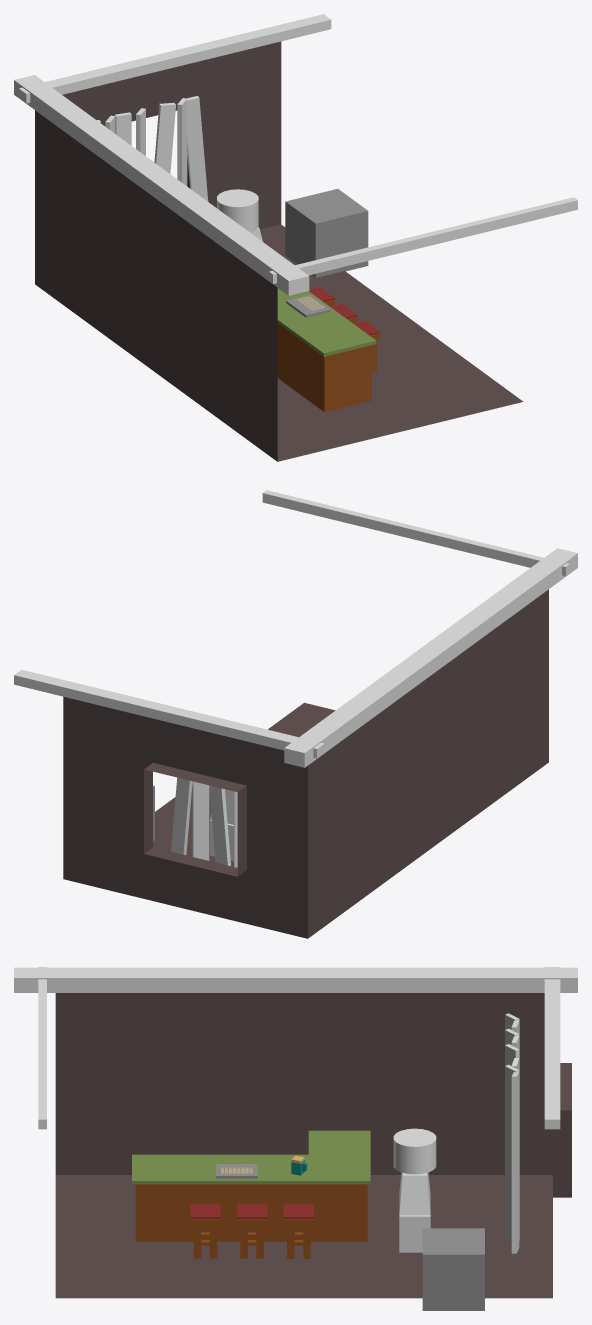
File: maßstab.FBX
The picture shows the model from 3 angles, top to bottom: view 1: azimuth 30°, elevation 25°; view 2: azimuth 150°, elevation 25°; view 3: azimuth 270°, elevation 25°; orthographic projection. The views are drawn at different scales.
Parts seen in each view (by area): view 1: Plane001, Box015, Würfel, Box004, Box016, Box018, Object007, Box013, Cylinder001, Box011, Box012, Box014; view 2: Plane001, Box015, Box016, Box018, Box012, Box011, Box013; view 3: Plane001, Box015, Box004, Object007, Würfel, Box016, Cylinder001, Box013, Box012, Box018, Box020, Box019 (+7 smaller).
Boxes of the visible parts, x1,y1,x2,y2 form: Plane001: [35, 41, 523, 461]; Box015: [14, 75, 309, 295]; Würfel: [285, 189, 368, 277]; Box004: [277, 323, 371, 412]; Box016: [18, 14, 331, 103]; Box018: [269, 197, 577, 283]; Object007: [277, 288, 376, 356]; Box013: [186, 96, 208, 201]; Cylinder001: [217, 189, 258, 232]; Box011: [154, 102, 175, 173]; Box012: [177, 98, 187, 186]; Box014: [286, 294, 330, 317]; Plane001: [63, 589, 548, 938]; Box015: [284, 548, 577, 767]; Box016: [14, 669, 324, 758]; Box018: [262, 490, 569, 576]; Box012: [192, 781, 209, 860]; Box011: [209, 785, 230, 866]; Box013: [171, 777, 192, 855]; Plane001: [55, 993, 571, 1298]; Box015: [14, 967, 577, 992]; Box004: [135, 1184, 367, 1241]; Object007: [132, 1130, 370, 1184]; Würfel: [422, 1228, 484, 1310]; Box016: [544, 967, 560, 1129]; Cylinder001: [393, 1128, 436, 1174]; Box013: [511, 1071, 519, 1253]; Box012: [505, 1064, 519, 1240]; Box018: [38, 967, 46, 1129]; Box020: [399, 1172, 430, 1215]; Box019: [399, 1215, 430, 1252].
Bounding box in the file's own units: 5.8 × 3.61 × 9.06.
